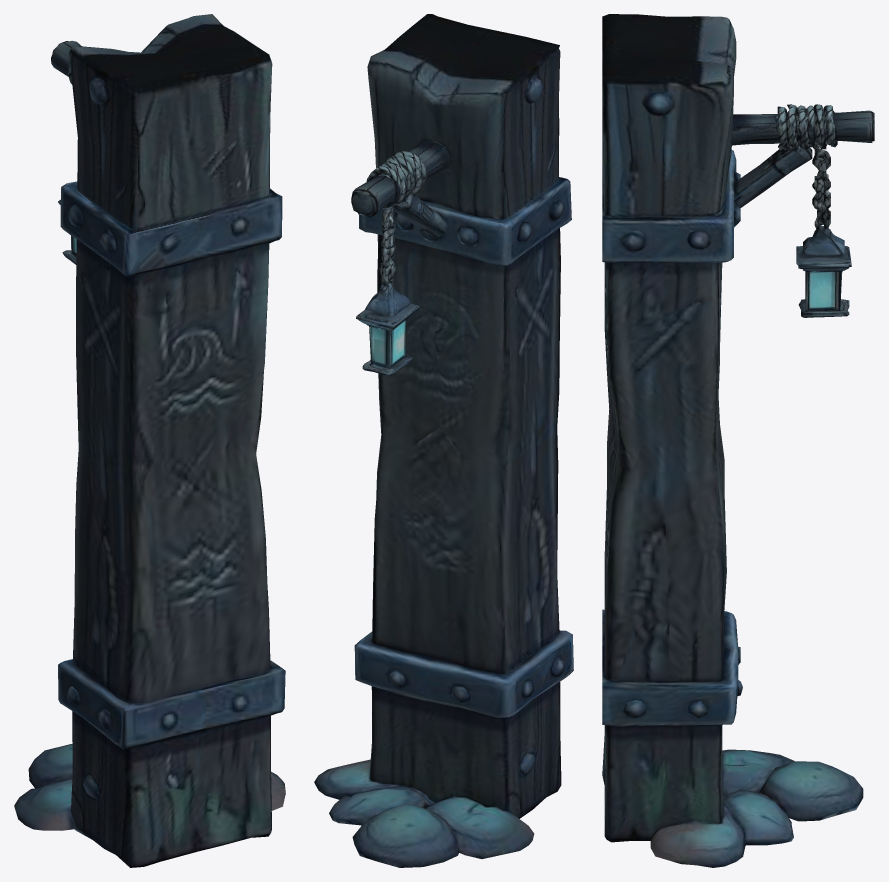
File: cs_pilar_b.glb
3 renders of one model, left to right at view 1: azimuth 30°, elevation 25°; view 2: azimuth 150°, elevation 25°; view 3: azimuth 270°, elevation 25°, orthographic. The views are drawn at different scales.
Parts seen in each view (by area): view 1: mesh_node.004; view 2: mesh_node.004; view 3: mesh_node.004.
Boxes of the visible parts, x1,y1,x2,y2 form: mesh_node.004: (14, 14, 285, 867); mesh_node.004: (314, 14, 573, 867); mesh_node.004: (602, 14, 874, 867).
Size of the model in its own units: 0.2256 by 0.7129 by 0.2305.
1 material, 1 textured.
